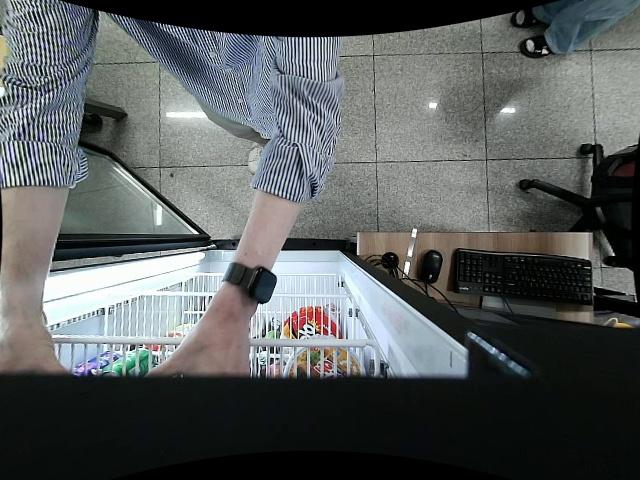00_hand: (137, 325, 257, 386)
